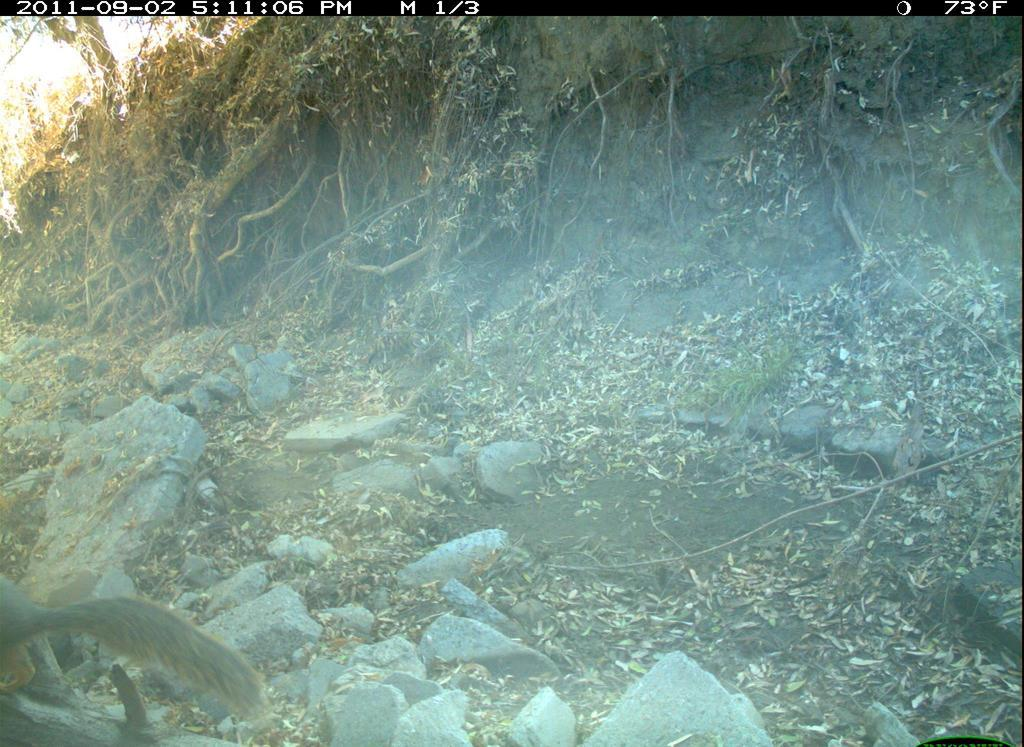squirrel: (4, 568, 276, 733)
